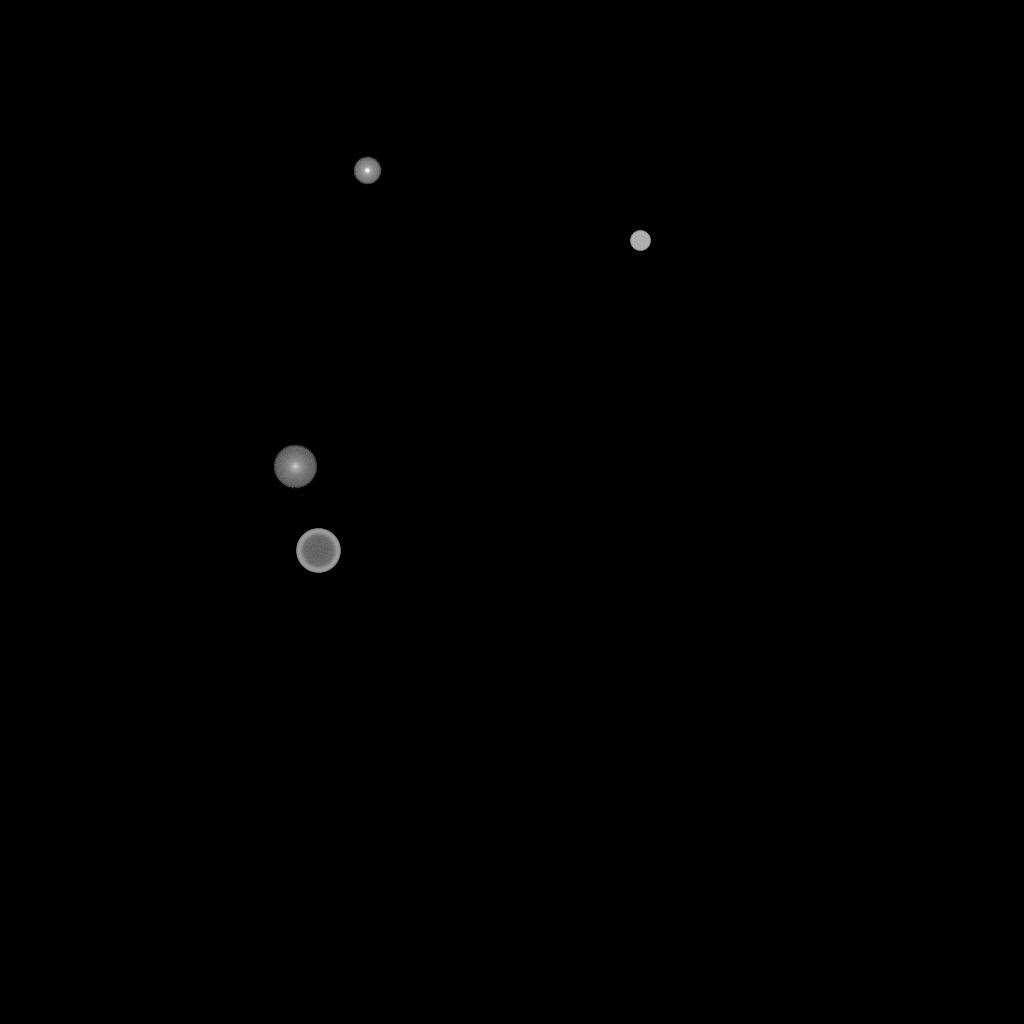depth:-10: (353, 157, 381, 185)
depth:-40: (630, 231, 650, 251)
depth:-70: (296, 529, 340, 573)
depth:10: (273, 445, 317, 489)
